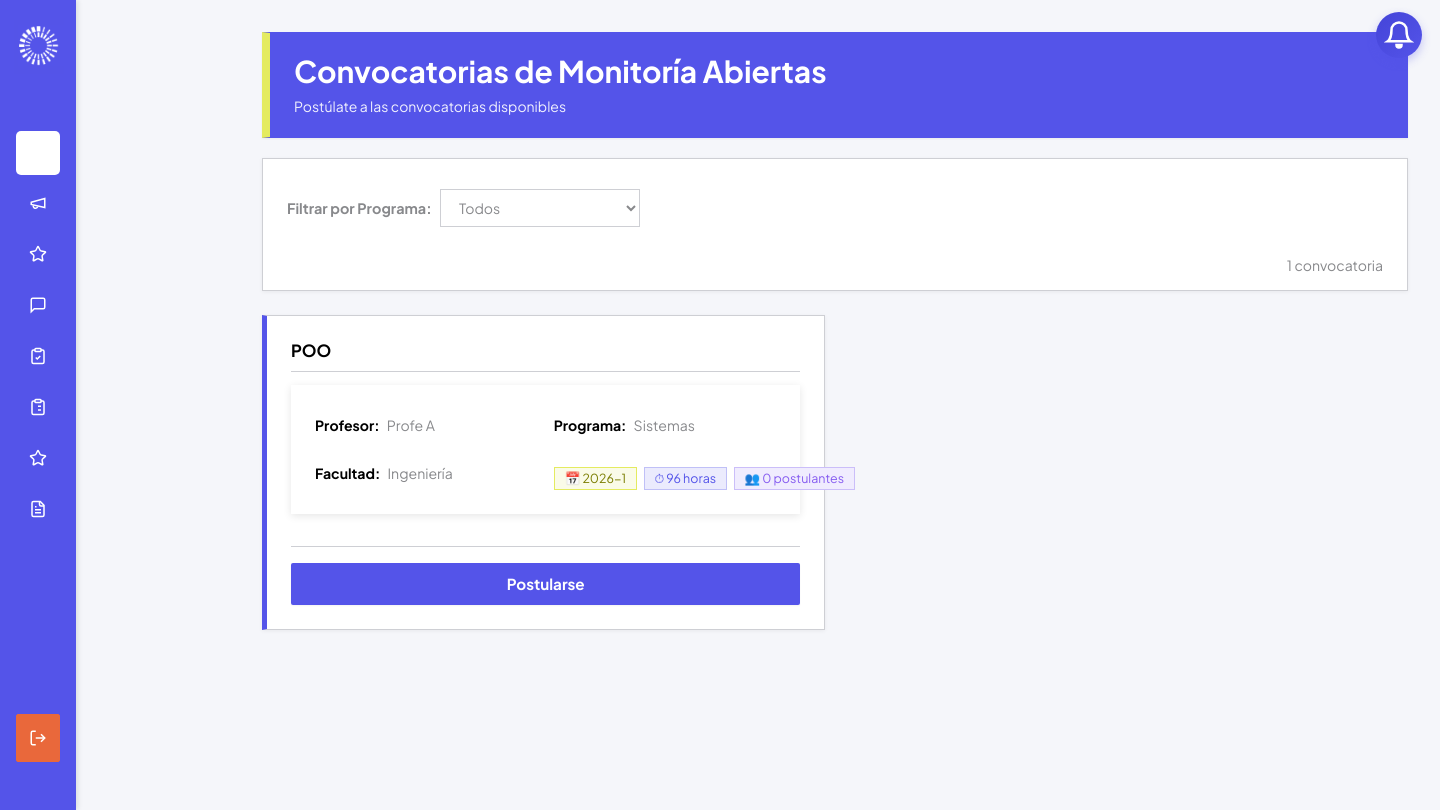
Test: ConvocatoriasSimonSimple › VerConvocatorias permite abrir modal de postulación para monitor
expect the heading "POO" is shown: met, box x1=291 y1=340 x2=800 y2=372
Click the button "Postularse" at (546, 584), box x1=291 y1=563 x2=800 y2=605
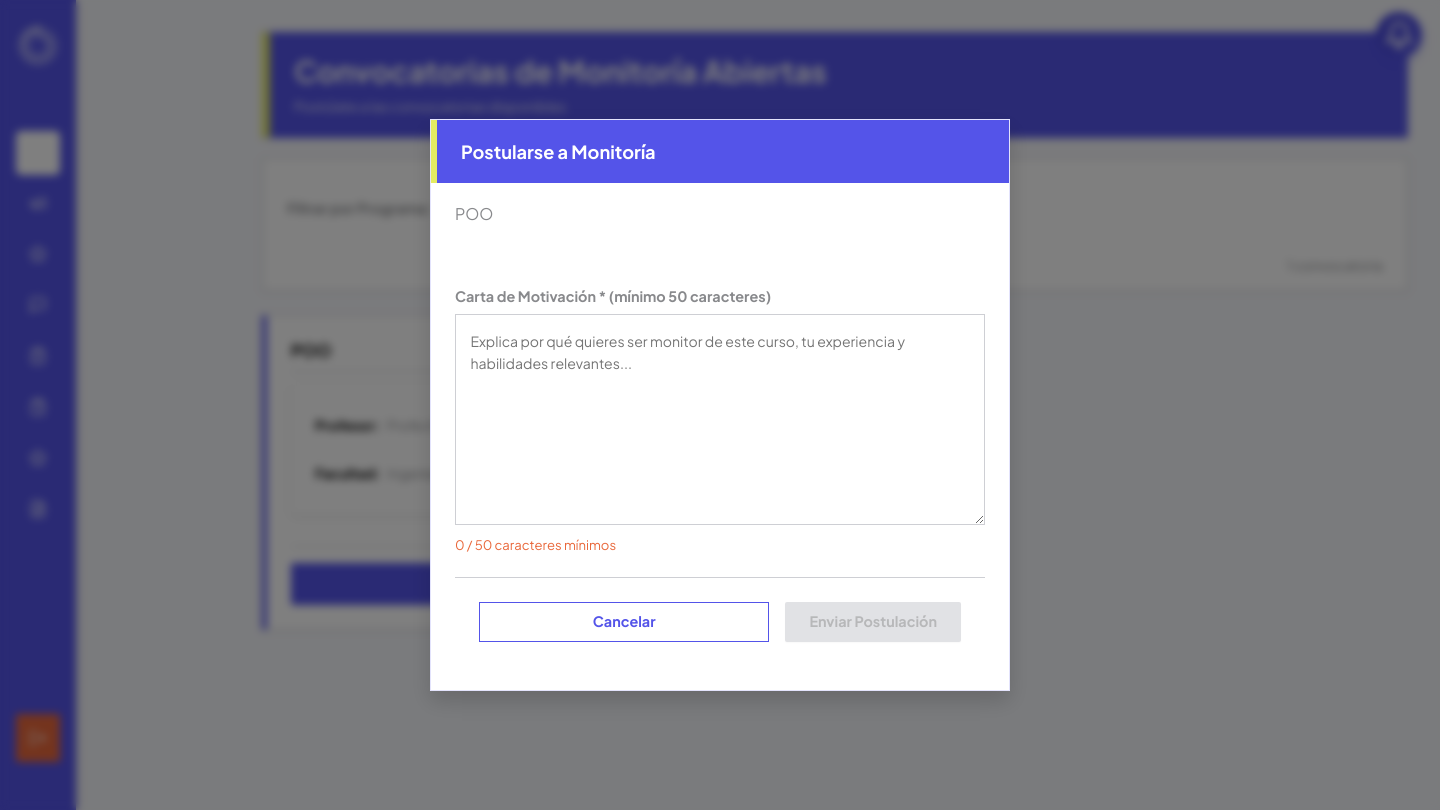
expect the heading "Postularse a Monitoría" is shown: met, box x1=431 y1=120 x2=1009 y2=183
